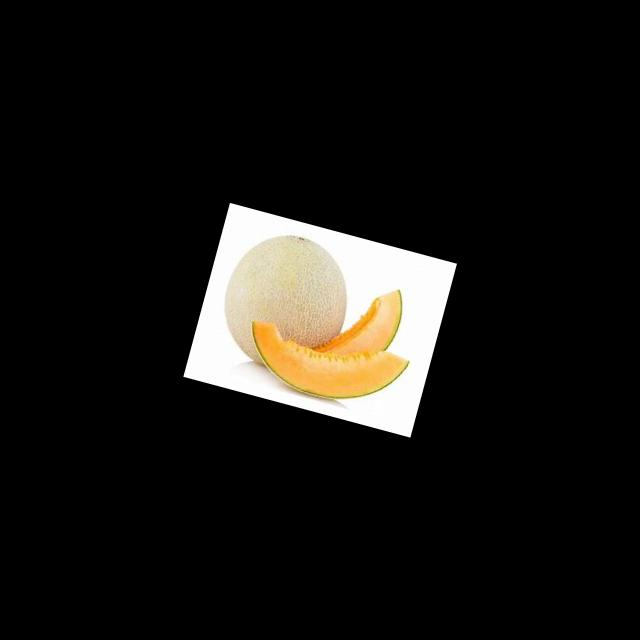Hami Melon: (210, 222, 362, 381), (236, 315, 412, 419)
